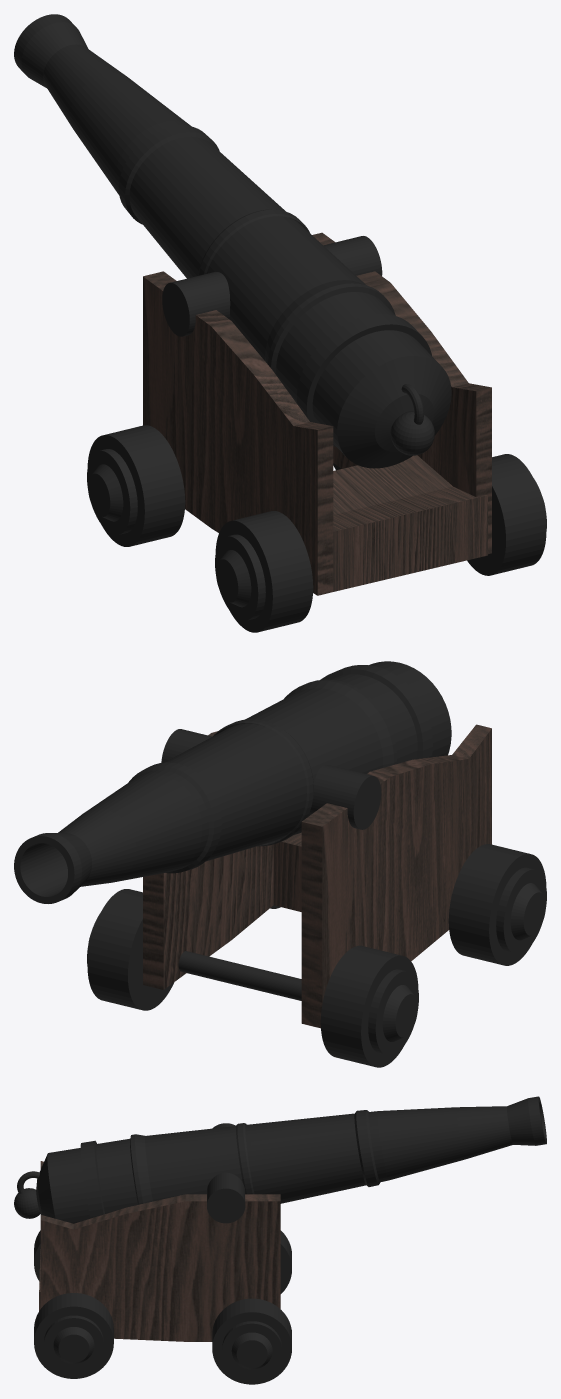
Rendered from cannon.fbx.
The picture shows the model from 3 angles, top to bottom: view 1: azimuth 30°, elevation 25°; view 2: azimuth 150°, elevation 25°; view 3: azimuth 270°, elevation 25°; orthographic projection. The views are drawn at different scales.
Visible parts, largest first — view 1: Cylinder, Cube.001, Cylinder.001, Cylinder.002; view 2: Cylinder, Cube.001, Cylinder.002, Cylinder.001; view 3: Cylinder, Cube.001, Cylinder.002, Cylinder.001.
Boxes of the visible parts, box(x1,y1,x2,y2) form: Cylinder: box(14, 14, 451, 468); Cube.001: box(143, 232, 491, 595); Cylinder.001: box(215, 454, 546, 632); Cylinder.002: box(87, 425, 340, 546); Cylinder: box(14, 661, 451, 903); Cube.001: box(143, 724, 491, 1028); Cylinder.002: box(87, 889, 418, 1067); Cylinder.001: box(270, 844, 546, 965); Cylinder: box(14, 1096, 546, 1223); Cube.001: box(39, 1161, 280, 1341); Cylinder.002: box(212, 1230, 291, 1384); Cylinder.001: box(34, 1230, 113, 1378).
Bounding box in the file's own units: 979 × 1046 × 2111.
Materials: 3 (1 with a texture image).
